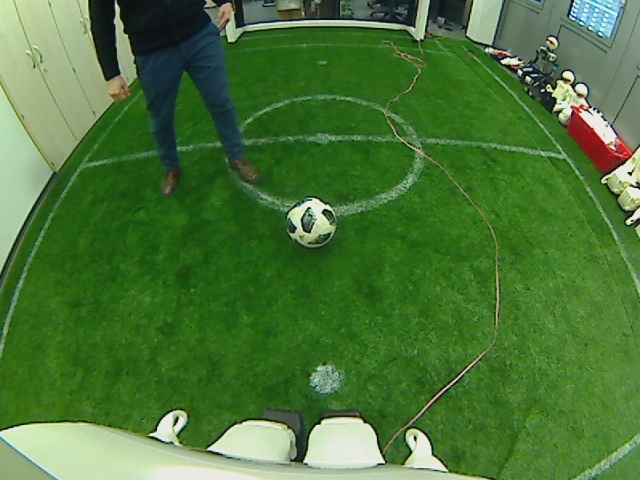ball: (285, 196, 337, 248)
